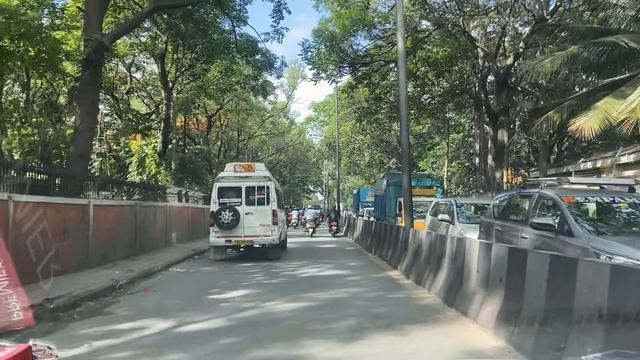HMV: (208, 163, 280, 254)
LMV: (304, 203, 318, 237), (330, 201, 341, 237)
